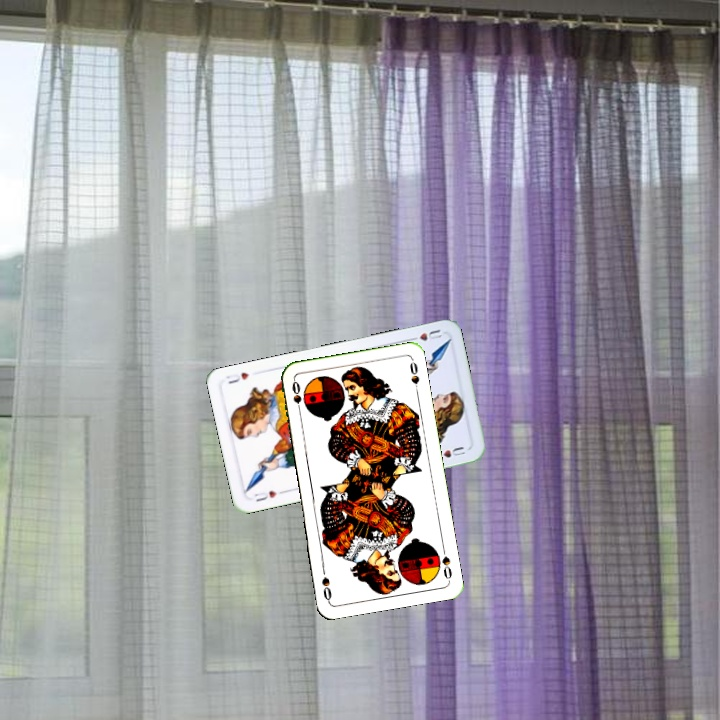HU: (405, 325, 444, 344), (250, 487, 287, 504)
SO: (288, 377, 304, 417), (438, 543, 454, 583)
